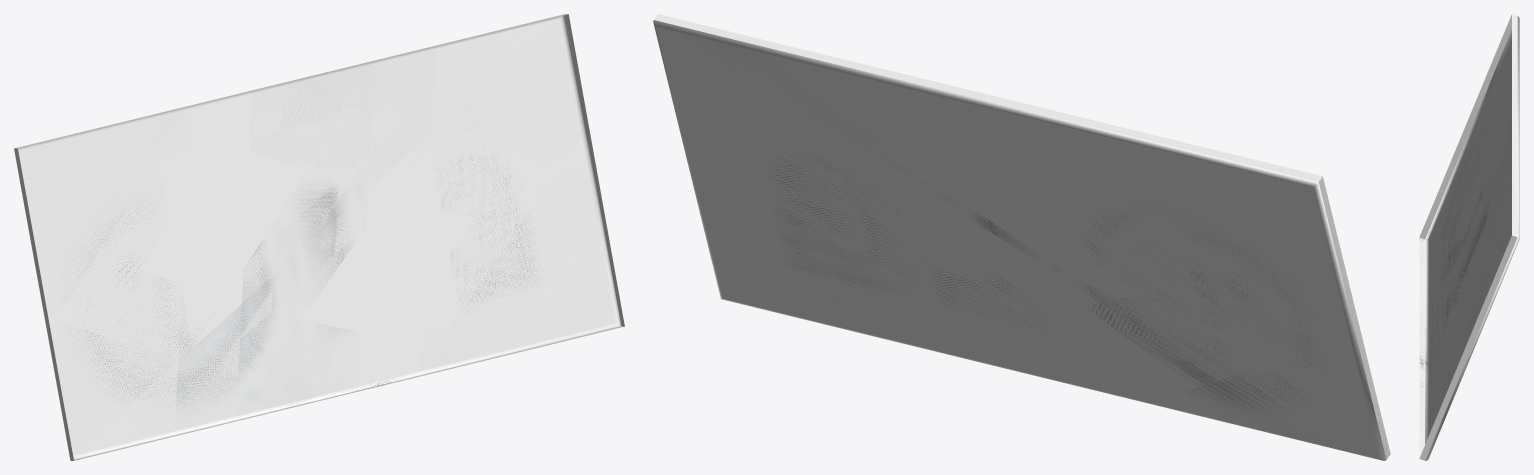
File: original-60.obj
3 views of the same model, side by side, from view 1: azimuth 30°, elevation 25°; view 2: azimuth 150°, elevation 25°; view 3: azimuth 270°, elevation 25° (orthographic). The views are drawn at different scales.
Parts seen in each view (by area): view 1: #ID471; view 2: #ID471; view 3: #ID471.
Part boxes in pixels (<box>): #ID471: <box>14,14,624,460</box>; #ID471: <box>653,14,1390,460</box>; #ID471: <box>1419,14,1519,460</box>.
Size of the model in its own units: 0.0808 by 0.0384 by 0.0155.
Materials: 2 (1 with a texture image).
